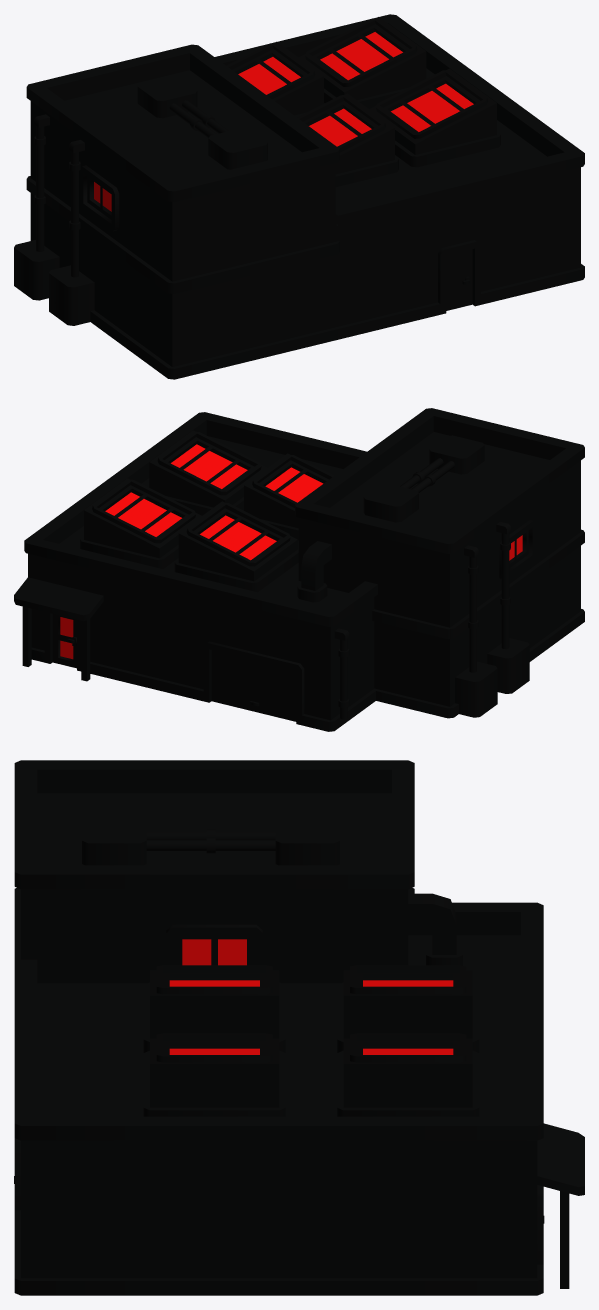
File: building-q.glb
3 views of the same model, one above another, from view 1: azimuth 30°, elevation 25°; view 2: azimuth 150°, elevation 25°; view 3: azimuth 270°, elevation 25° (orthographic). The views are drawn at different scales.
Visible parts, largest first — view 1: building-q; view 2: building-q; view 3: building-q.
Part boxes in pixels (<box>): building-q: <box>14,14,584,379</box>; building-q: <box>14,408,584,731</box>; building-q: <box>14,760,584,1295</box>.
Bounding box in the file's own units: 2.14 × 0.8802 × 1.77.
1 material, 1 textured.
